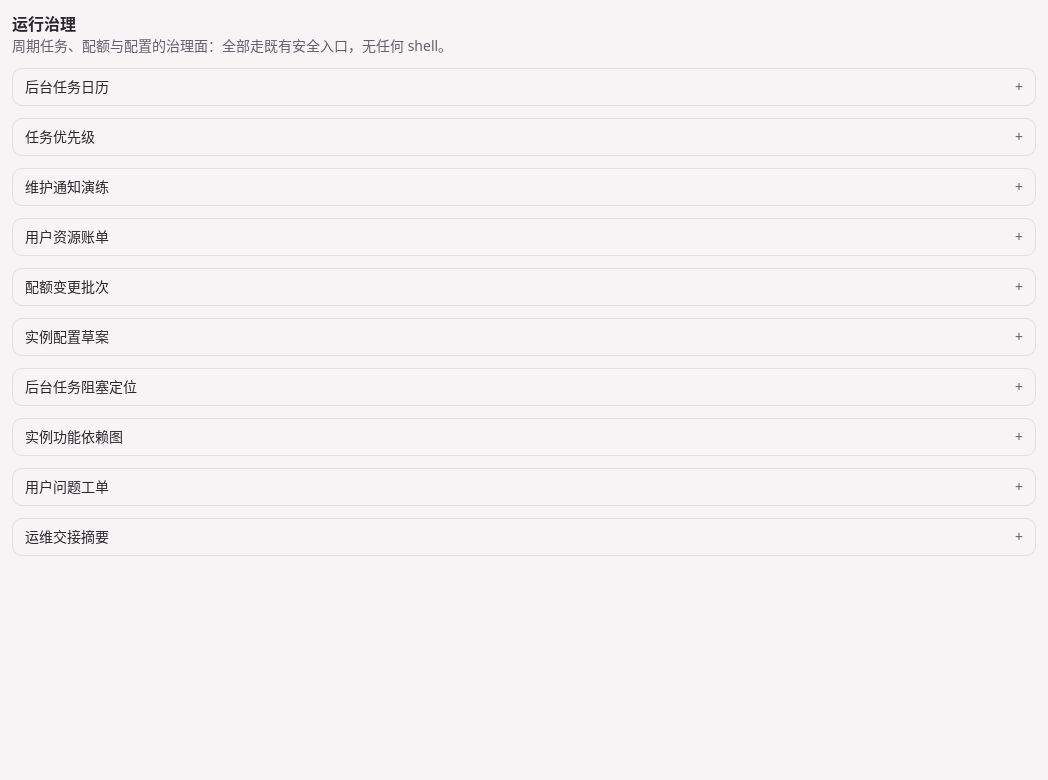
it: NEW-371..380 运行治理中心（Web 入口） › 展开阻塞定位：计数与安全处置如实呈现（锁类无强制解锁入口）
Click the button "后台任务阻塞定位 +": [81, 386] box [13,369,1035,405]
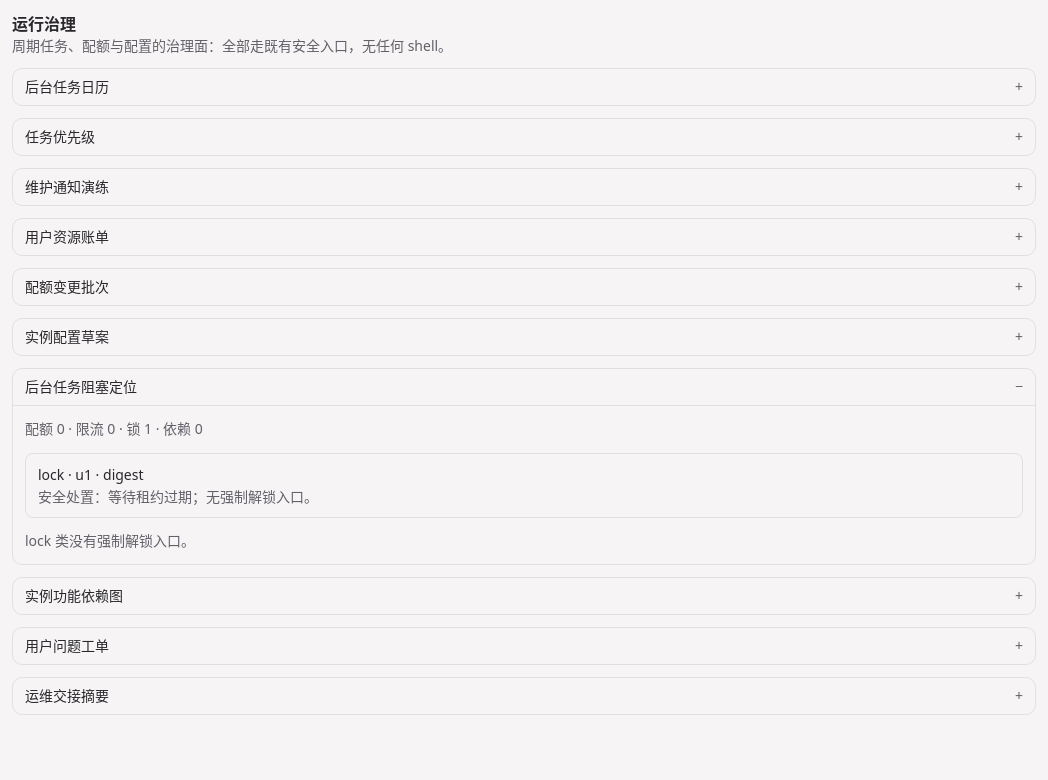
Check: the text "配额 0 · 限流 0 · 锁 1 · 依赖 0" is shown, box [25,419,203,438]
Check: the text "安全处置：等待租约过期；无强制解锁入口。" is shown, box [38,487,318,506]
